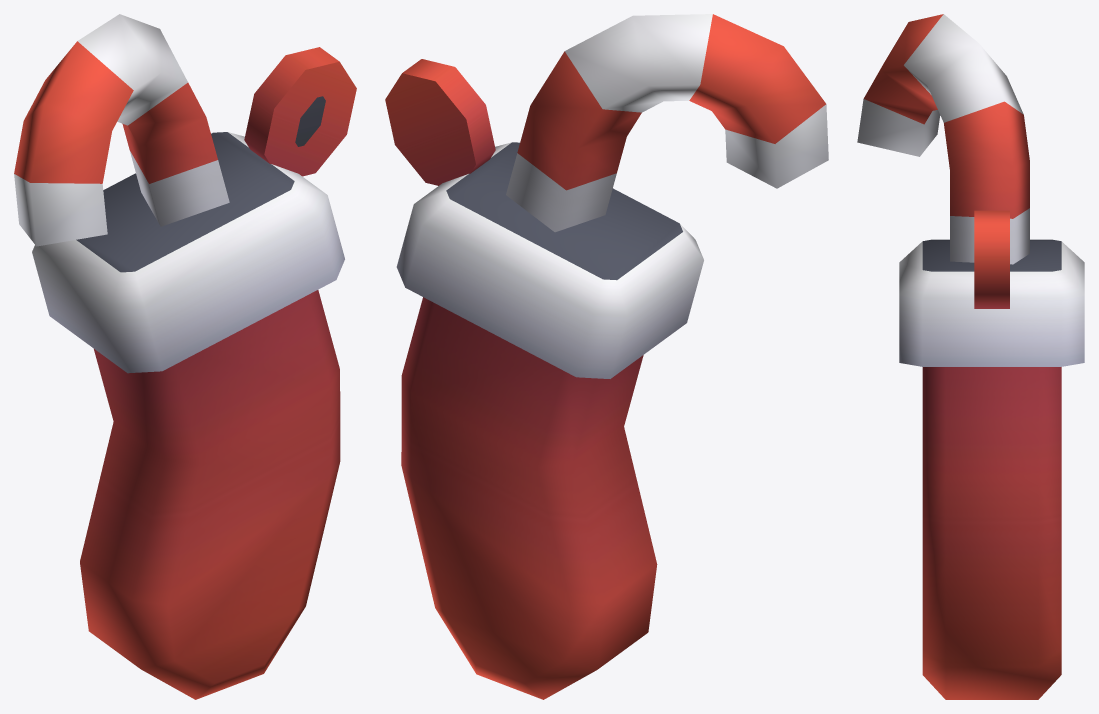
The model's file is kenney-holiday-sock-red-cane.glb.
3 views of the same model, side by side, from view 1: azimuth 30°, elevation 25°; view 2: azimuth 150°, elevation 25°; view 3: azimuth 270°, elevation 25° (orthographic). The views are drawn at different scales.
Parts seen in each view (by area): view 1: sock-red-cane; view 2: sock-red-cane; view 3: sock-red-cane.
Boxes of the visible parts, left/top/right/bottom form: sock-red-cane: left=14, top=14, right=356, bottom=699; sock-red-cane: left=385, top=14, right=828, bottom=699; sock-red-cane: left=857, top=14, right=1084, bottom=699.
Size of the model in its own units: 0.4194 by 0.7302 by 0.2455.
1 material, 1 textured.
